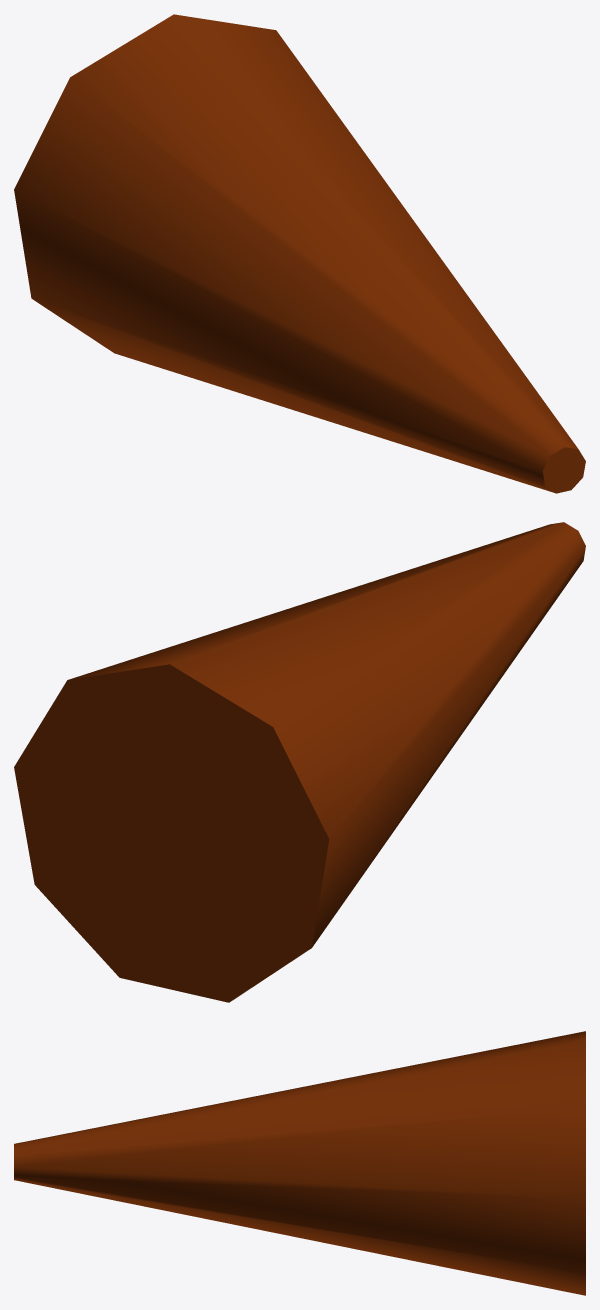
File: Spotlight_1.fbx
The picture shows the model from 3 angles, top to bottom: view 1: azimuth 30°, elevation 25°; view 2: azimuth 150°, elevation 25°; view 3: azimuth 270°, elevation 25°; orthographic projection. The views are drawn at different scales.
Visible parts, largest first — view 1: Spotlight_1; view 2: Spotlight_1; view 3: Spotlight_1.
Part boxes in pixels (box(x1,y1,x2,y2)): Spotlight_1: box(14, 14, 585, 493); Spotlight_1: box(14, 522, 585, 1002); Spotlight_1: box(14, 1031, 585, 1295).
Bounding box in the file's own units: 635 × 626 × 1368.
